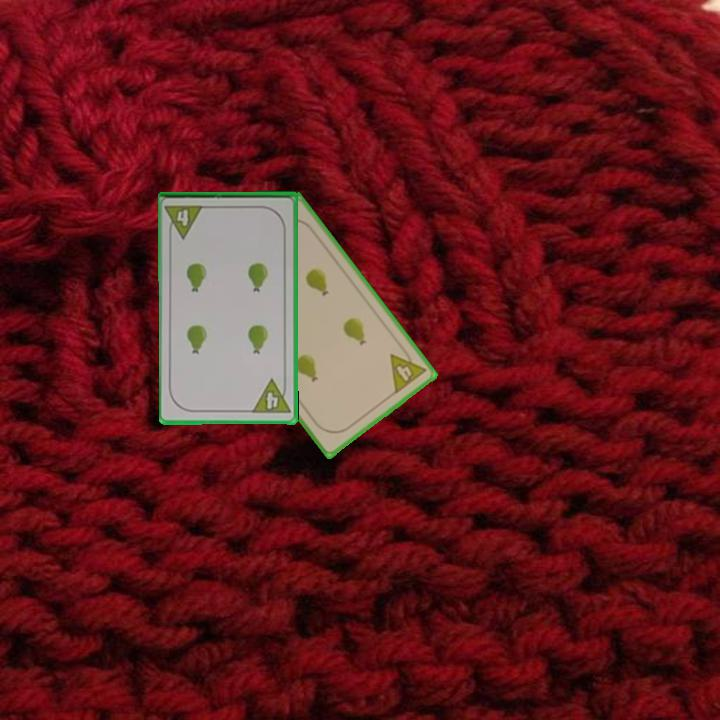4p: (386, 343, 429, 397), (249, 376, 293, 417), (163, 202, 207, 241)
